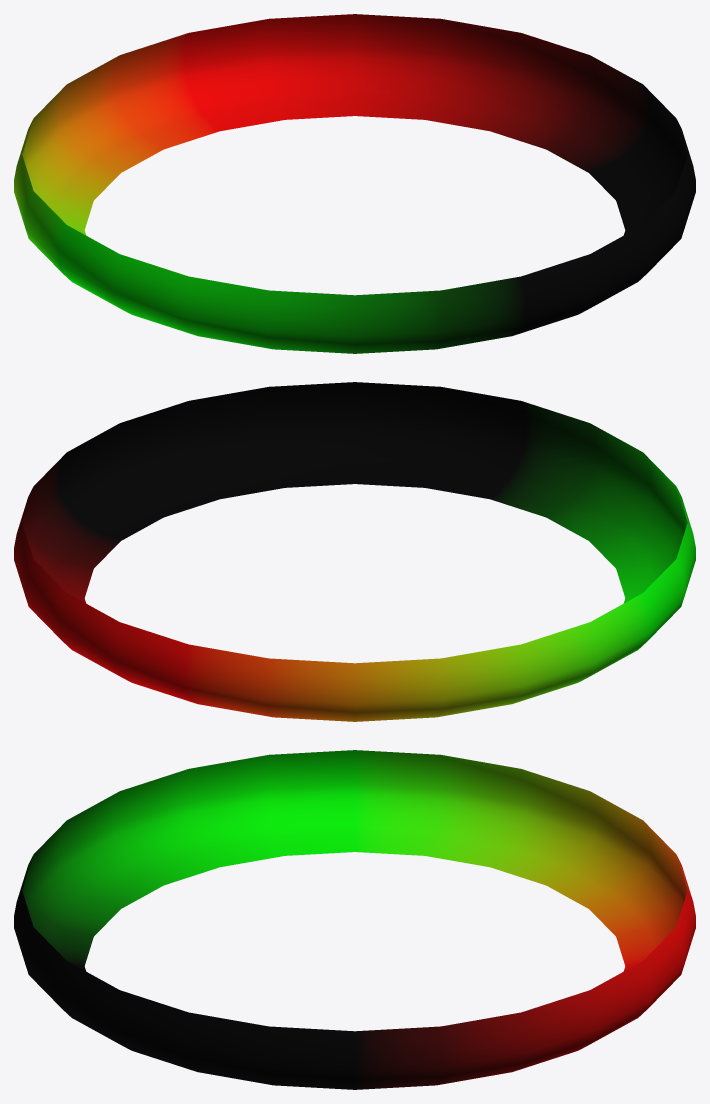
File: uni_hoop.fbx
3 views of the same model, one above another, from view 1: azimuth 30°, elevation 25°; view 2: azimuth 150°, elevation 25°; view 3: azimuth 270°, elevation 25° (orthographic).
Visible parts, largest first — view 1: uni_hoop; view 2: uni_hoop; view 3: uni_hoop.
Part boxes in pixels (x1,y1,x2,y2): uni_hoop: (14, 14, 695, 353); uni_hoop: (14, 382, 695, 721); uni_hoop: (14, 750, 695, 1089).
Bounding box in the file's own units: 26154 × 26154 × 3200.
